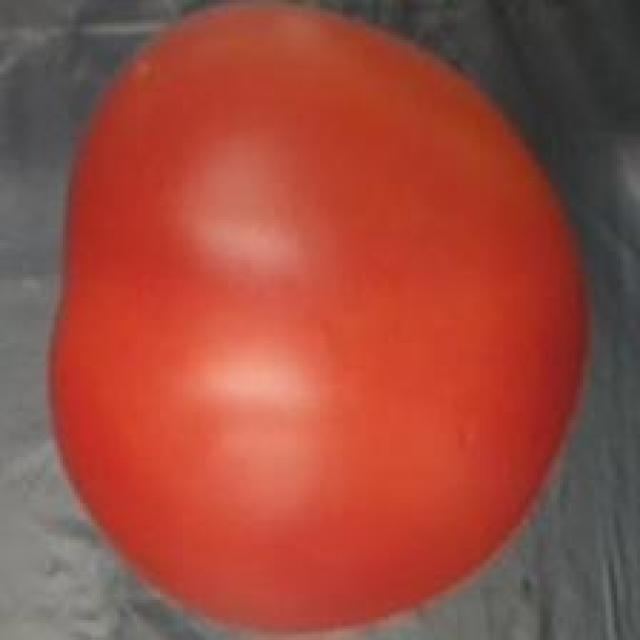ripe tomato: (40, 3, 609, 640)
